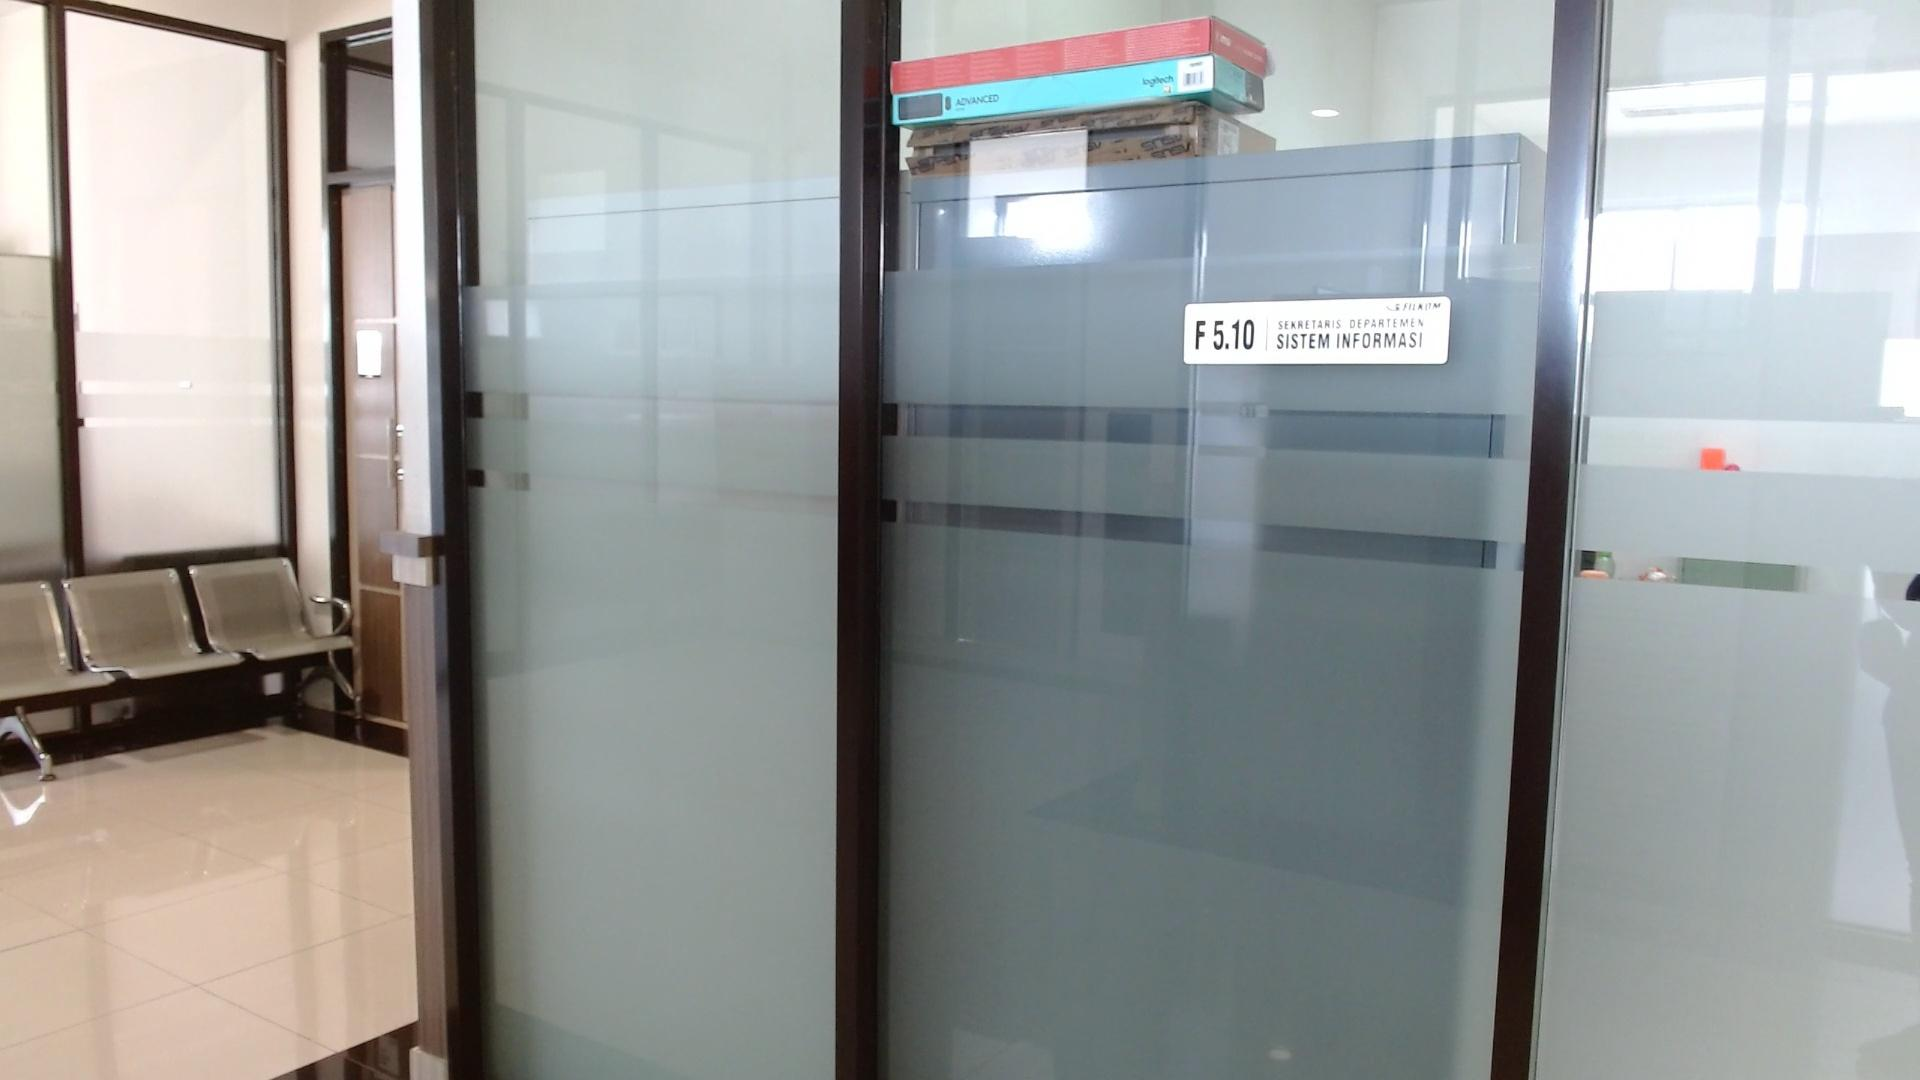plate: (1183, 295, 1452, 365)
